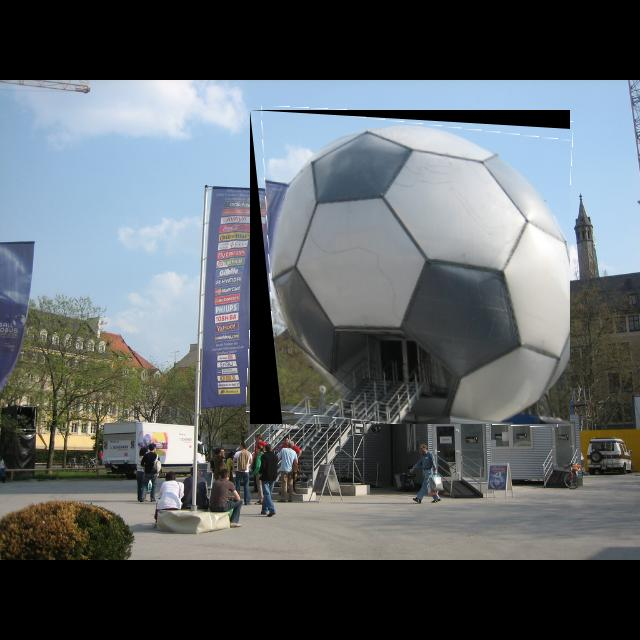Football: (250, 110, 570, 424)
